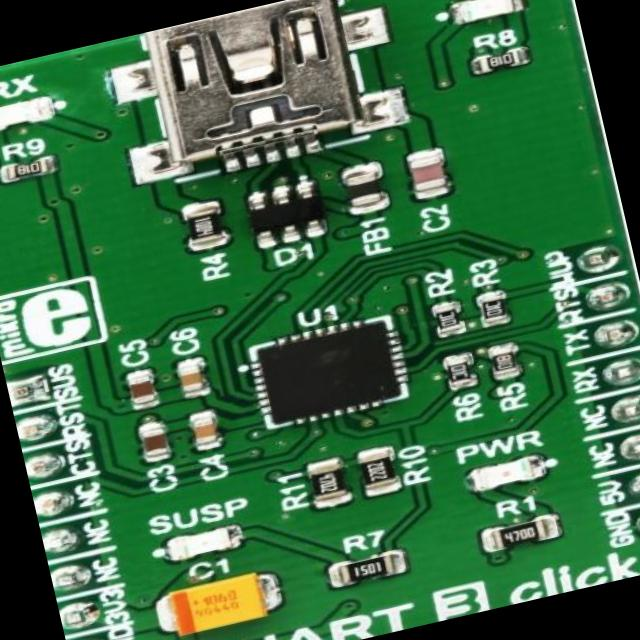IC: (248, 312, 408, 434), (243, 178, 334, 252)
LED: (164, 520, 242, 564), (475, 454, 547, 494), (0, 92, 57, 136), (450, 0, 521, 29)
capacitor: (156, 570, 278, 640), (406, 150, 453, 193), (175, 357, 211, 392), (142, 422, 172, 462), (188, 413, 221, 449), (125, 370, 156, 405)
connector: (131, 0, 398, 182)
resistor: (479, 510, 559, 554), (336, 550, 402, 584), (305, 458, 348, 507), (181, 202, 225, 248), (360, 448, 400, 493), (484, 342, 521, 382), (476, 286, 509, 324), (6, 157, 54, 183), (445, 349, 475, 388), (434, 298, 464, 333), (477, 48, 524, 70)
